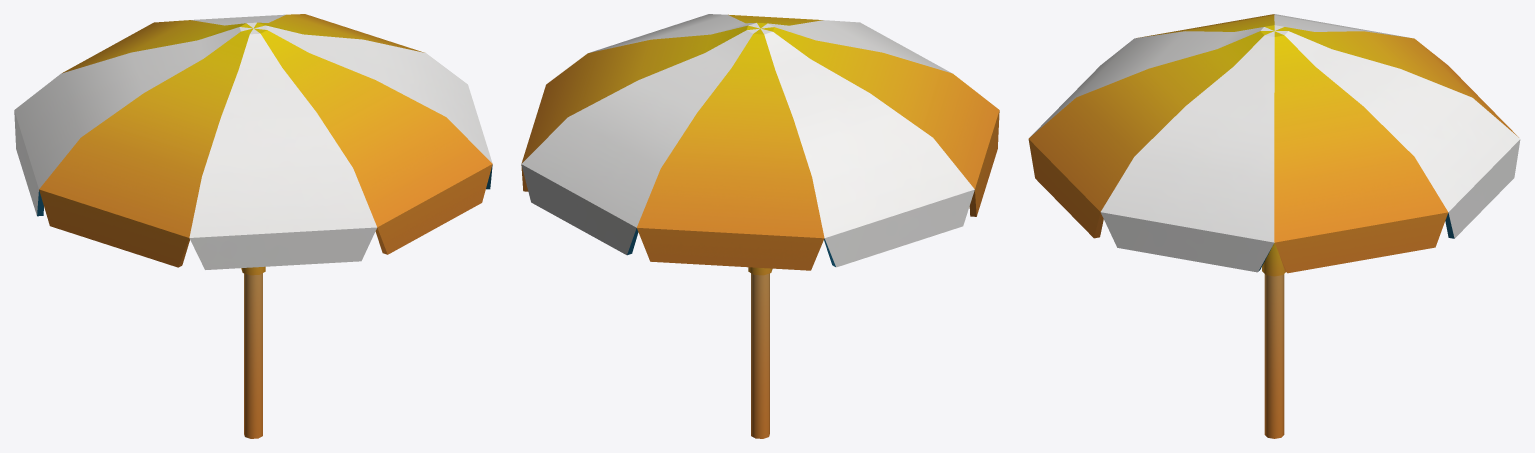
Rendered from ENV_Umbrella3.fbx.
3 views of the same model, side by side, from view 1: azimuth 30°, elevation 25°; view 2: azimuth 150°, elevation 25°; view 3: azimuth 270°, elevation 25° (orthographic).
Parts seen in each view (by area): view 1: ENV_Umbrella_3; view 2: ENV_Umbrella_3; view 3: ENV_Umbrella_3.
Boxes of the visible parts, x1=… form: ENV_Umbrella_3: x1=14, y1=14, x2=492, y2=438; ENV_Umbrella_3: x1=521, y1=14, x2=999, y2=438; ENV_Umbrella_3: x1=1028, y1=14, x2=1520, y2=438.
Size of the model in its own units: 360 by 326 by 360.
